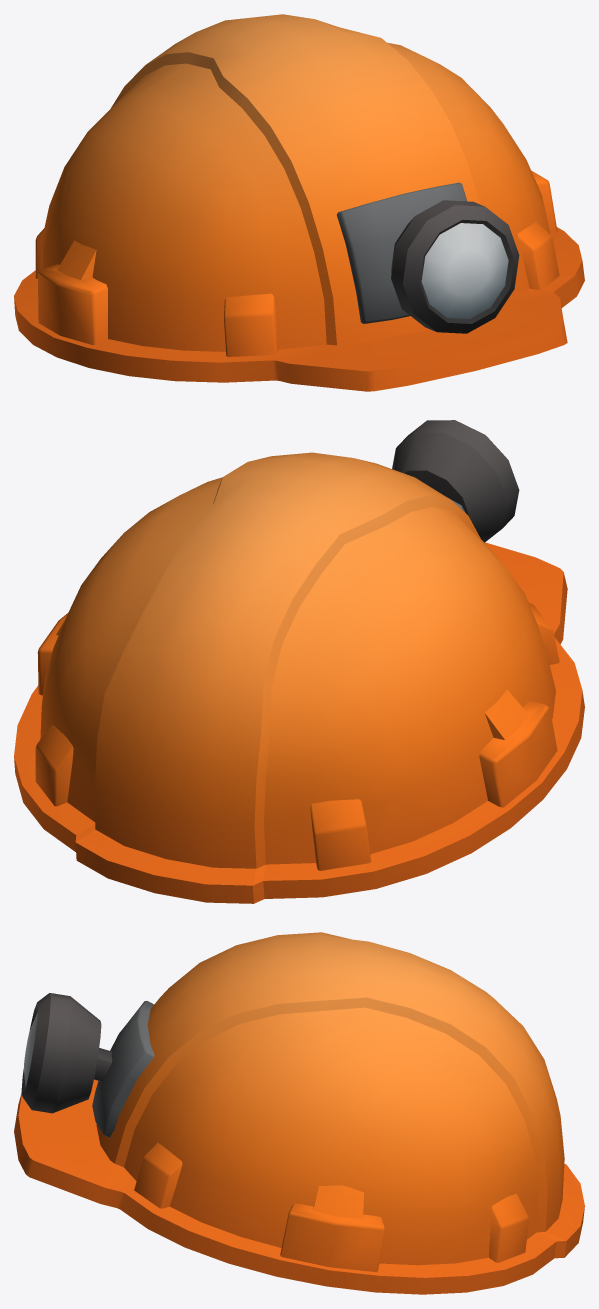
Rendered from Hat_25.glb.
3 renders of one model, top to bottom at view 1: azimuth 30°, elevation 25°; view 2: azimuth 150°, elevation 25°; view 3: azimuth 270°, elevation 25°, orthographic. The views are drawn at different scales.
Parts seen in each view (by area): view 1: Hat_25; view 2: Hat_25; view 3: Hat_25.
Boxes of the visible parts, bbox=[...] form: Hat_25: bbox=[14, 14, 584, 391]; Hat_25: bbox=[14, 420, 584, 903]; Hat_25: bbox=[14, 932, 584, 1294].
Size of the model in its own units: 0.671 by 0.4025 by 0.7675.
Materials: 1 (1 with a texture image).
